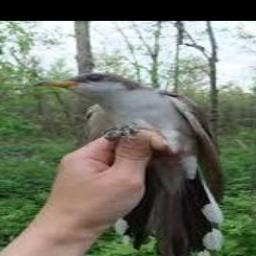Cuckoo: (36, 72, 225, 256)
